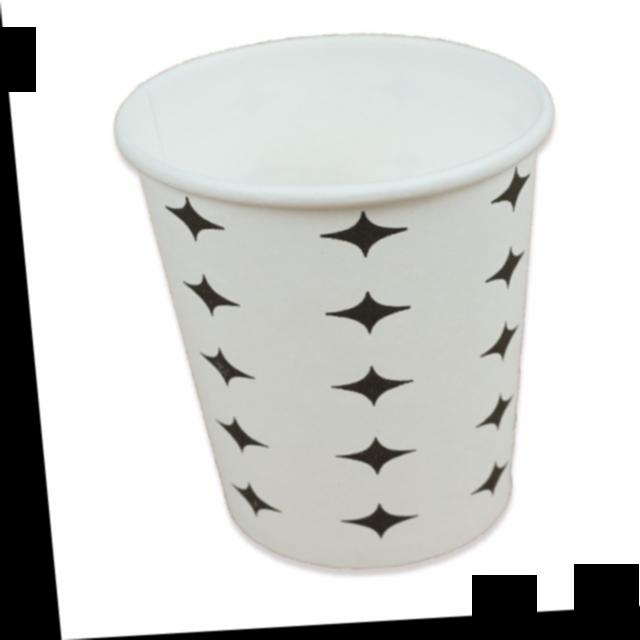karton-bardak: (82, 22, 638, 603)
